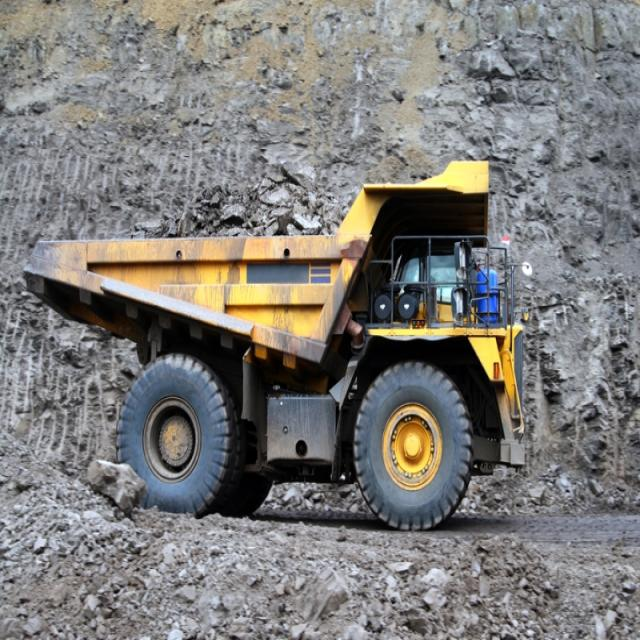truck: (25, 162, 525, 529)
